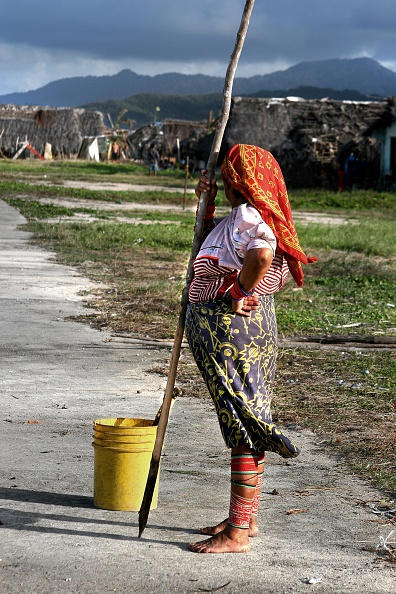em pe: (173, 127, 303, 416)
